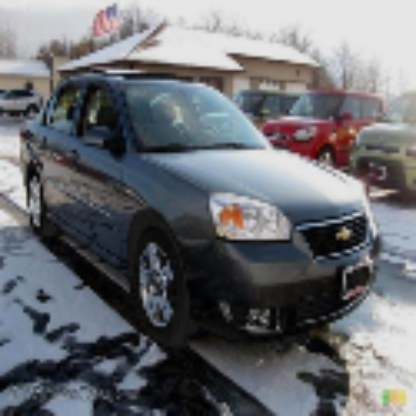Vehicle: (20, 75, 382, 347)
